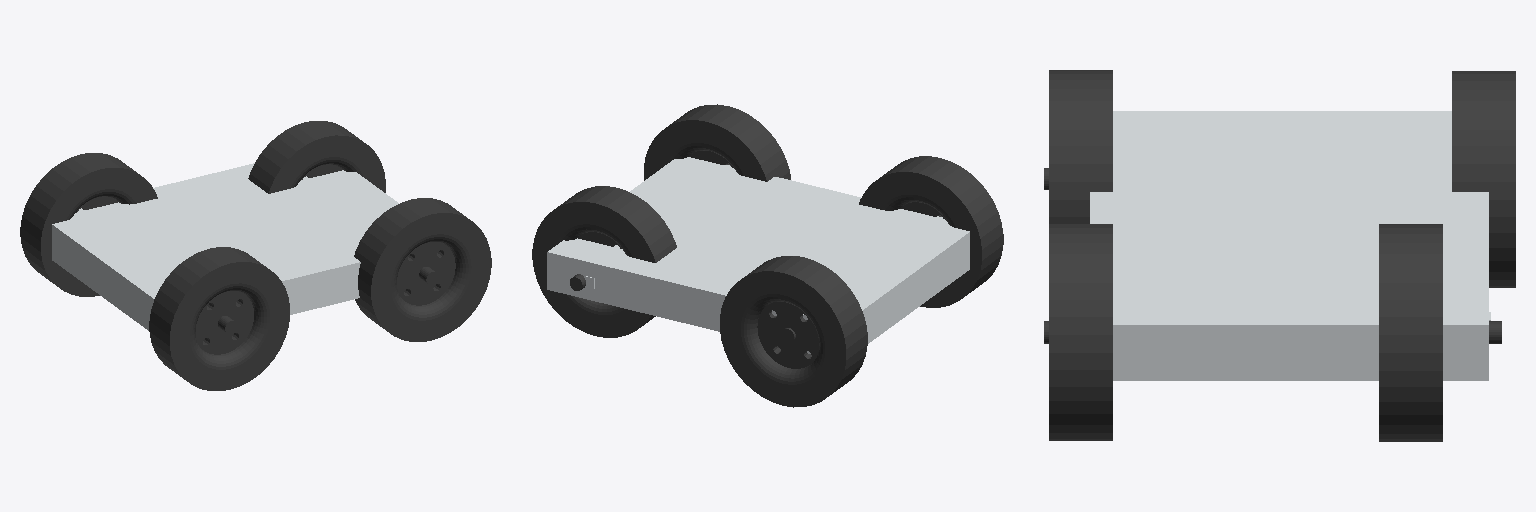
URDF robot description (jared_robot_with_wheels):
<?xml version="1.0" encoding="utf-8"?>
<!-- This URDF was automatically created by SolidWorks to URDF Exporter! Originally created by Stephen Brawner (brawner@gmail.com) 
     Commit Version: 1.6.0-4-g7f85cfe  Build Version: 1.6.7995.38578
     For more information, please see http://wiki.ros.org/sw_urdf_exporter -->
<robot
  name="jared_robot_with_wheels">
  <link
    name="base_link">
    <inertial>
      <origin
        xyz="0.010935 -0.030407 0.054599"
        rpy="0 0 0" />
      <mass
        value="0.92997" />
      <inertia
        ixx="0.0079514"
        ixy="-1.1522E-08"
        ixz="5.938E-10"
        iyy="0.012166"
        iyz="2.7431E-08"
        izz="0.019879" />
    </inertial>
    <visual>
      <origin
        xyz="0 0 0.04"
        rpy="0 0 0" />
      <geometry>
        <mesh
          filename="package://delivery_bot/urdf/jared_robot_with_wheels/meshes/base_link.STL" />
      </geometry>
      <material
        name="">
        <color
          rgba="0.89804 0.91765 0.92941 1" />
      </material>
    </visual>
    <collision>
      <origin
        xyz="0 0 0"
        rpy="0 0 0" />
      <geometry>
        <mesh
          filename="package://delivery_bot/urdf/jared_robot_with_wheels/meshes/base_link.STL" />
      </geometry>
    </collision>
  </link>
  <link
    name="back_left_axel_link">
    <inertial>
      <origin
        xyz="-2.77555756156289E-17 -0.01905 -6.93889390390723E-18"
        rpy="0 0 0" />
      <mass
        value="0.00925034546157725" />
      <inertia
        ixx="1.26237123251708E-06"
        ixy="-2.68139427113751E-39"
        ixz="3.9715781344532E-55"
        iyy="2.86760135787476E-07"
        iyz="5.18315748524543E-24"
        izz="1.26237123251708E-06" />
    </inertial>
    <visual>
      <origin
        xyz="0 0 0"
        rpy="0 0 0" />
      <geometry>
        <mesh
          filename="package://delivery_bot/urdf/jared_robot_with_wheels/meshes/axel.STL" />
      </geometry>
      <material
        name="">
        <color
          rgba="0.298039215686275 0.298039215686275 0.298039215686275 1" />
      </material>
    </visual>
    <collision>
      <origin
        xyz="0 0 0"
        rpy="0 0 0" />
      <geometry>
        <mesh
          filename="package://delivery_bot/urdf/jared_robot_with_wheels/meshes/axel.STL" />
      </geometry>
    </collision>
  </link>
  <joint
    name="back_left_axel_joint"
    type="continuous">
    <origin
      xyz="0.13799 0.11056 0.03863"
      rpy="0 0 0" />
    <parent
      link="base_link" />
    <child
      link="back_left_axel_link" />
    <axis
      xyz="0 1 0" />
  </joint>
  <link
    name="back_left_wheel_link">
    <inertial>
      <origin
        xyz="6.74635390052192E-06 1.18862929219116E-05 -0.022225"
        rpy="0 0 0" />
      <mass
        value="0.837780520459389" />
      <inertia
        ixx="0.00151305128968288"
        ixy="-1.05291714394583E-07"
        ixz="3.71419242818938E-21"
        iyy="0.00151267393371603"
        iyz="-4.34580762946475E-21"
        izz="0.00278701331152993" />
    </inertial>
    <visual>
      <origin
        xyz="0 0 0"
        rpy="0 0 0" />
      <geometry>
        <mesh
          filename="package://delivery_bot/urdf/jared_robot_with_wheels/meshes/wheel.STL" />
      </geometry>
      <material
        name="">
        <color
          rgba="0.298039215686275 0.298039215686275 0.298039215686275 1" />
      </material>
    </visual>
    <collision>
      <origin
        xyz="0 0 0"
        rpy="0 0 0" />
      <geometry>
        <mesh
          filename="package://delivery_bot/urdf/jared_robot_with_wheels/meshes/wheel.STL" />
      </geometry>
    </collision>
  </link>
  <joint
    name="back_left_wheel_joint"
    type="fixed">
    <origin
      xyz="0 -0.0254 0"
      rpy="0 0 0" />
    <parent
      link="back_left_axel_link" />
    <child
      link="back_left_wheel_link" />
    <axis
      xyz="0 1 0" />
  </joint>
  <link
    name="front_left_axel_link">
    <inertial>
      <origin
        xyz="-1.38777878078145E-17 0.01905 0"
        rpy="0 0 0" />
      <mass
        value="0.00925034546157725" />
      <inertia
        ixx="1.26237123251708E-06"
        ixy="-2.68139427113751E-39"
        ixz="-3.9715781344532E-55"
        iyy="2.86760135787476E-07"
        iyz="-3.62940203436553E-38"
        izz="1.26237123251708E-06" />
    </inertial>
    <visual>
      <origin
        xyz="0 0 0"
        rpy="0 0 0" />
      <geometry>
        <mesh
          filename="package://delivery_bot/urdf/jared_robot_with_wheels/meshes/axel.STL" />
      </geometry>
      <material
        name="">
        <color
          rgba="0.298039215686275 0.298039215686275 0.298039215686275 1" />
      </material>
    </visual>
    <collision>
      <origin
        xyz="0 0 0"
        rpy="0 0 0" />
      <geometry>
        <mesh
          filename="package://delivery_bot/urdf/jared_robot_with_wheels/meshes/axel.STL" />
      </geometry>
    </collision>
  </link>
  <joint
    name="front_left_axel_joint"
    type="continuous">
    <origin
      xyz="-0.11601 0.11056 0.03863"
      rpy="0 0 0" />
    <parent
      link="base_link" />
    <child
      link="front_left_axel_link" />
    <axis
      xyz="0 1 0" />
  </joint>
  <link
    name="front_left_wheel_link">
    <inertial>
      <origin
        xyz="6.7463539005358E-06 1.18862929219671E-05 0.022225"
        rpy="0 0 0" />
      <mass
        value="0.837780520459389" />
      <inertia
        ixx="0.00151305128968288"
        ixy="-1.05291714394339E-07"
        ixz="-1.06298982490433E-21"
        iyy="0.00151267393371603"
        iyz="-5.71971116817966E-23"
        izz="0.00278701331152993" />
    </inertial>
    <visual>
      <origin
        xyz="0 0 0"
        rpy="0 0 0" />
      <geometry>
        <mesh
          filename="package://delivery_bot/urdf/jared_robot_with_wheels/meshes/wheel.STL" />
      </geometry>
      <material
        name="">
        <color
          rgba="0.298039215686275 0.298039215686275 0.298039215686275 1" />
      </material>
    </visual>
    <collision>
      <origin
        xyz="0 0 0"
        rpy="0 0 0" />
      <geometry>
        <mesh
          filename="package://delivery_bot/urdf/jared_robot_with_wheels/meshes/wheel.STL" />
      </geometry>
    </collision>
  </link>
  <joint
    name="front_left_wheel_joint"
    type="fixed">
    <origin
      xyz="0 0.0254 0"
      rpy="0 0 0" />
    <parent
      link="front_left_axel_link" />
    <child
      link="front_left_wheel_link" />
    <axis
      xyz="0 1 0" />
  </joint>
  <link
    name="back_right_axel_link">
    <inertial>
      <origin
        xyz="0 0.01905 2.08166817117217E-17"
        rpy="0 0 0" />
      <mass
        value="0.00925034546157725" />
      <inertia
        ixx="1.26237123251708E-06"
        ixy="-2.68139427113751E-39"
        ixz="-4.96447266806645E-56"
        iyy="2.86760135787476E-07"
        iyz="-1.49033559525697E-22"
        izz="1.26237123251708E-06" />
    </inertial>
    <visual>
      <origin
        xyz="0 0 0"
        rpy="0 0 0" />
      <geometry>
        <mesh
          filename="package://delivery_bot/urdf/jared_robot_with_wheels/meshes/axel.STL" />
      </geometry>
      <material
        name="">
        <color
          rgba="0.298039215686275 0.298039215686275 0.298039215686275 1" />
      </material>
    </visual>
    <collision>
      <origin
        xyz="0 0 0"
        rpy="0 0 0" />
      <geometry>
        <mesh
          filename="package://delivery_bot/urdf/jared_robot_with_wheels/meshes/axel.STL" />
      </geometry>
    </collision>
  </link>
  <joint
    name="back_right_axel_joint"
    type="continuous">
    <origin
      xyz="0.13791 -0.17138 0.038807"
      rpy="0 0 0" />
    <parent
      link="base_link" />
    <child
      link="back_right_axel_link" />
    <axis
      xyz="0 1 0" />
  </joint>
  <link
    name="back_right_wheel_link">
    <inertial>
      <origin
        xyz="6.74635390051498E-06 1.18862929219254E-05 -0.022225"
        rpy="0 0 0" />
      <mass
        value="0.837780520459389" />
      <inertia
        ixx="0.00151305128968288"
        ixy="-1.05291714394394E-07"
        ixz="-9.89021711443493E-20"
        iyy="0.00151267393371603"
        iyz="6.95362221279974E-21"
        izz="0.00278701331152993" />
    </inertial>
    <visual>
      <origin
        xyz="0 0 0"
        rpy="0 0 0" />
      <geometry>
        <mesh
          filename="package://delivery_bot/urdf/jared_robot_with_wheels/meshes/wheel.STL" />
      </geometry>
      <material
        name="">
        <color
          rgba="0.298039215686275 0.298039215686275 0.298039215686275 1" />
      </material>
    </visual>
    <collision>
      <origin
        xyz="0 0 0"
        rpy="0 0 0" />
      <geometry>`
        <mesh
          filename="package://delivery_bot/urdf/jared_robot_with_wheels/meshes/wheel.STL" />
      </geometry>
    </collision>
  </link>
  <joint
    name="back_right_wheel_joint"
    type="fixed">
    <origin
      xyz="0 0.0254 0"
      rpy="0 0 0" />
    <parent
      link="back_right_axel_link" />
    <child
      link="back_right_wheel_link" />
    <axis
      xyz="0 1 0" />
  </joint>
  <link
    name="front_right_axel_link">
    <inertial>
      <origin
        xyz="-2.77555756156289E-17 0.01905 5.55111512312578E-17"
        rpy="0 0 0" />
      <mass
        value="0.00925034546157725" />
      <inertia
        ixx="1.26237123251708E-06"
        ixy="6.7231285611538E-24"
        ixz="0"
        iyy="2.86760135787476E-07"
        iyz="-1.58038263479407E-23"
        izz="1.26237123251708E-06" />
    </inertial>
    <visual>
      <origin
        xyz="0 0 0"
        rpy="0 0 0" />
      <geometry>
        <mesh
          filename="package://delivery_bot/urdf/jared_robot_with_wheels/meshes/axel.STL" />
      </geometry>
      <material
        name="">
        <color
          rgba="0.298039215686275 0.298039215686275 0.298039215686275 1" />
      </material>
    </visual>
    <collision>
      <origin
        xyz="0 0 0"
        rpy="0 0 0" />
      <geometry>
        <mesh
          filename="package://delivery_bot/urdf/jared_robot_with_wheels/meshes/axel.STL" />
      </geometry>
    </collision>
  </link>
  <joint
    name="front_right_axel_joint"
    type="continuous">
    <origin
      xyz="-0.11609 -0.17138 0.038807"
      rpy="0 0 0" />
    <parent
      link="base_link" />
    <child
      link="front_right_axel_link" />
    <axis
      xyz="0 1 0" />
  </joint>
  <link
    name="front_right_wheel_link">
    <inertial>
      <origin
        xyz="6.74635390054967E-06 1.18862929218769E-05 0.022225"
        rpy="0 0 0" />
      <mass
        value="0.837780520459389" />
      <inertia
        ixx="0.00151305128968288"
        ixy="-1.05291714394854E-07"
        ixz="1.69141346237133E-19"
        iyy="0.00151267393371603"
        iyz="8.80229443436177E-20"
        izz="0.00278701331152993" />
    </inertial>
    <visual>
      <origin
        xyz="0 0 0"
        rpy="0 0 0" />
      <geometry>
        <mesh
          filename="package://delivery_bot/urdf/jared_robot_with_wheels/meshes/wheel.STL" />
      </geometry>
      <material
        name="">
        <color
          rgba="0.298039215686275 0.298039215686275 0.298039215686275 1" />
      </material>
    </visual>
    <collision>
      <origin
        xyz="0 0 0"
        rpy="0 0 0" />
      <geometry>
        <mesh
          filename="package://delivery_bot/urdf/jared_robot_with_wheels/meshes/wheel.STL" />
      </geometry>
    </collision>
  </link>
  <joint
    name="front_right_wheel_joint"
    type="fixed">
    <origin
      xyz="0 0.0254 0"
      rpy="0 0 0" />
    <parent
      link="front_right_axel_link" />
    <child
      link="front_right_wheel_link" />
    <axis
      xyz="0 1 0" />
  </joint>

  <gazebo>
    <plugin name="diff_drive_controller" filename="libgazebo_ros_diff_drive.so">
    <ros>
    <namespace>/</namespace>
    <remapping>cmd_vel:=/cmd_vel</remapping>
    </ros>
    <updateRate>50</updateRate>
    <wheelSeparation>0.4</wheelSeparation>
    <wheelDiameter>0.215</wheelDiameter>
    <leftJoint>front_left_wheel_joint</leftJoint>
    <leftJoint>back_left_wheel_joint</leftJoint>
    <rightJoint>front_right_wheel_joint</rightJoint>
    <rightJoint>back_right_wheel_joint</rightJoint>
    <torque>20</torque>
    </plugin>
  </gazebo>
  <!-- <gazebo>
    <plugin name="skid_steer_drive_controller" filename="libgazebo_ros_skid_steer_drive.so">
      <updateRate>100.0</updateRate>
      <robotNamespace>/</robotNamespace>
      <leftFrontJoint>front_left_wheel_joint</leftFrontJoint>
      <rightFrontJoint>front_right_wheel_joint</rightFrontJoint>
      <leftRearJoint>back_left_wheel_joint</leftRearJoint>
      <rightRearJoint>back_right_wheel_joint</rightRearJoint>
      <wheelSeparation>0.4</wheelSeparation>
      <wheelDiameter>0.215</wheelDiameter>
      <robotBaseFrame>base_link</robotBaseFrame>
      <torque>20</torque>
      <topicName>cmd_vel</topicName>
      <broadcastTF>false</broadcastTF>
    </plugin>
  </gazebo> -->


</robot>

--- What the picture shows (computed from the rendered views, not written in the file) ---
The picture shows the robot from 3 angles, left to right: view 1: azimuth 30°, elevation 25°; view 2: azimuth 150°, elevation 25°; view 3: azimuth 270°, elevation 25°; orthographic projection.
Model jared_robot_with_wheels with 9 links and 8 joints (4 continuous, 4 fixed), rooted at base_link, posed all joints at 0.
Visible links, largest first — view 1: base_link, front_right_wheel_link, back_right_wheel_link, front_left_wheel_link, back_left_wheel_link; view 2: base_link, front_left_wheel_link, back_left_wheel_link, front_right_wheel_link, back_right_wheel_link; view 3: base_link, back_left_wheel_link, back_right_wheel_link, front_left_wheel_link, front_right_wheel_link.
Boxes of the visible links, bbox=[...] form: base_link: bbox=[52, 163, 398, 330]; front_right_wheel_link: bbox=[149, 247, 289, 390]; back_right_wheel_link: bbox=[354, 198, 491, 341]; front_left_wheel_link: bbox=[20, 153, 157, 296]; back_left_wheel_link: bbox=[248, 121, 385, 193]; base_link: bbox=[547, 157, 969, 353]; front_left_wheel_link: bbox=[720, 256, 867, 407]; back_left_wheel_link: bbox=[532, 186, 676, 337]; front_right_wheel_link: bbox=[859, 156, 1003, 307]; back_right_wheel_link: bbox=[644, 104, 790, 181]; base_link: bbox=[1090, 111, 1490, 380]; back_left_wheel_link: bbox=[1379, 224, 1442, 441]; back_right_wheel_link: bbox=[1049, 224, 1112, 440]; front_left_wheel_link: bbox=[1452, 71, 1515, 287]; front_right_wheel_link: bbox=[1049, 70, 1112, 223].
Bounding box of the posed robot: 0.406 × 0.3296 × 0.1526 m (x, y, z).
9 mesh visuals loaded from 3 distinct referenced files (3 binary STL).
